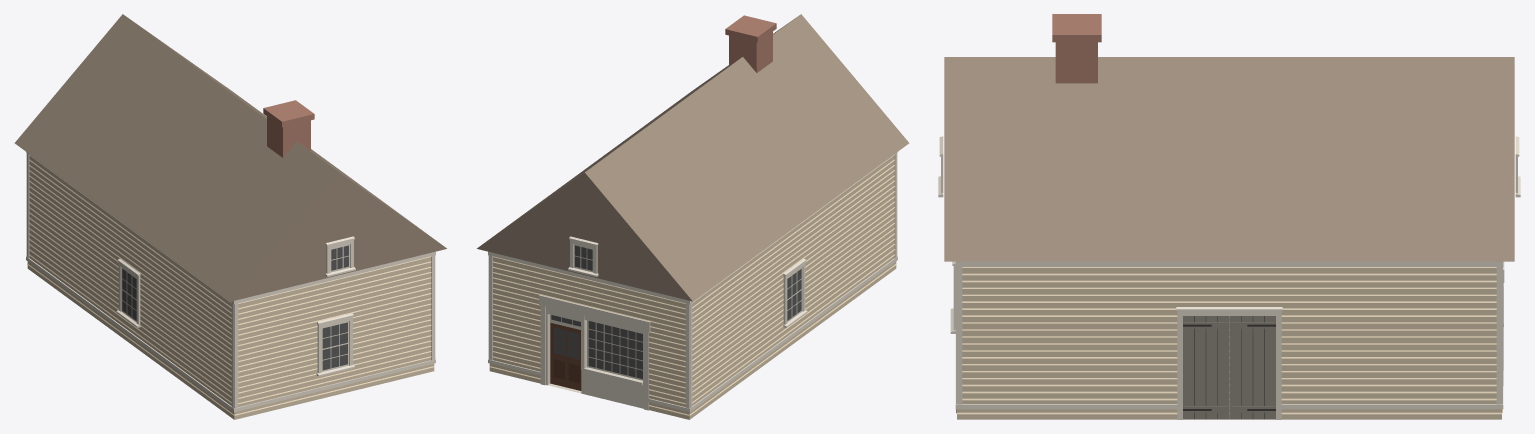
File: recon_1835_blk_south_water_franklin_c2_09__inferred_1835.glb
3 views of the same model, side by side, from view 1: azimuth 30°, elevation 25°; view 2: azimuth 150°, elevation 25°; view 3: azimuth 270°, elevation 25° (orthographic). The views are drawn at different scales.
Visible parts, largest first — view 1: recon_1835_blk_south_water_franklin_c2_09__inferred_1835; view 2: recon_1835_blk_south_water_franklin_c2_09__inferred_1835; view 3: recon_1835_blk_south_water_franklin_c2_09__inferred_1835.
Boxes of the visible parts, <box> form: recon_1835_blk_south_water_franklin_c2_09__inferred_1835: <box>14,14,446,419</box>; recon_1835_blk_south_water_franklin_c2_09__inferred_1835: <box>477,14,909,419</box>; recon_1835_blk_south_water_franklin_c2_09__inferred_1835: <box>938,14,1520,419</box>.
Size of the model in its own units: 6.54 by 7.24 by 11.56.
